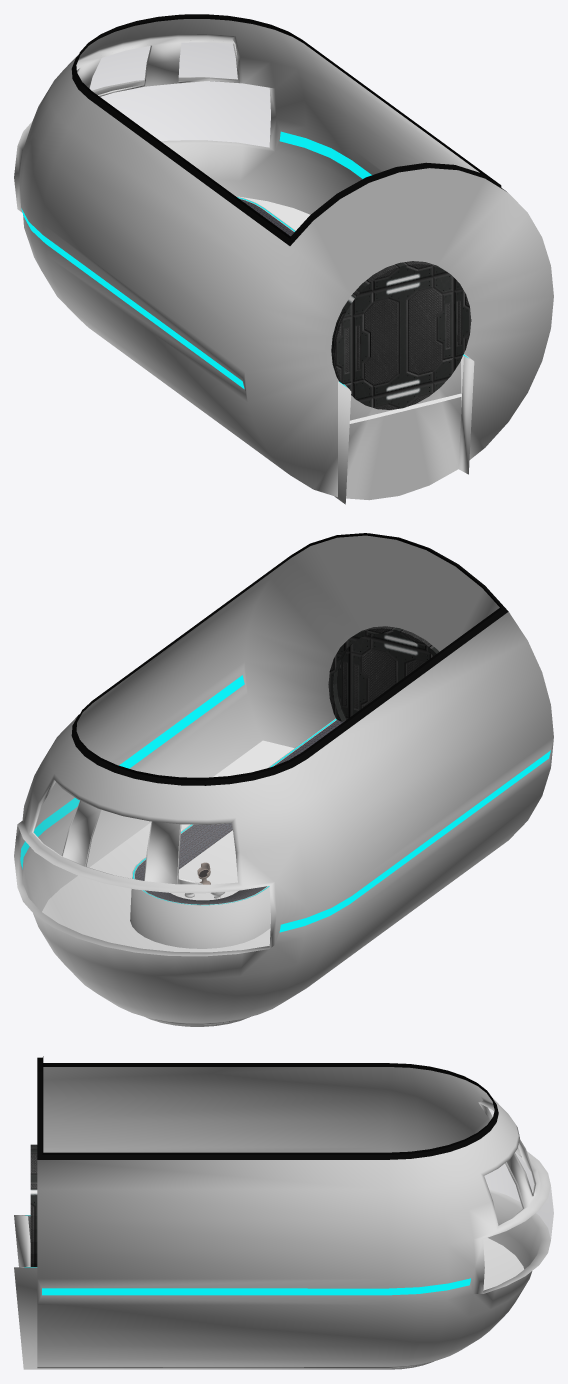
Rendered from ship10.glb.
3 renders of one model, top to bottom at view 1: azimuth 30°, elevation 25°; view 2: azimuth 150°, elevation 25°; view 3: azimuth 270°, elevation 25°, orthographic. The views are drawn at different scales.
Parts seen in each view (by area): view 1: Sci_Fi_Space_Station; view 2: Sci_Fi_Space_Station; view 3: Sci_Fi_Space_Station.
Part boxes in pixels (x1,y1,x2,y2): Sci_Fi_Space_Station: (14, 14, 553, 504); Sci_Fi_Space_Station: (14, 533, 553, 1026); Sci_Fi_Space_Station: (14, 1056, 553, 1369).
Size of the model in its own units: 67.7 by 68.29 by 118.
11 materials, 3 textured.
